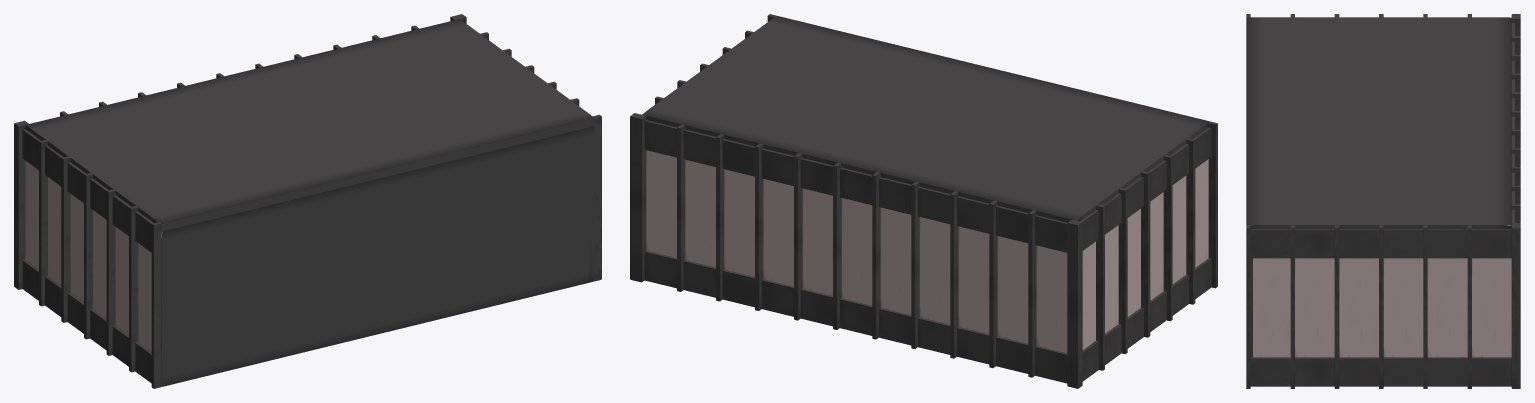
File: AptBuilding02_BaseFB.fbx
3 renders of one model, left to right at view 1: azimuth 30°, elevation 25°; view 2: azimuth 150°, elevation 25°; view 3: azimuth 270°, elevation 25°, orthographic.
Parts seen in each view (by area): view 1: cuboid_55, cuboid_54, cuboid_56, cuboid_28, cuboid_27, cuboid_23, cuboid_25, cuboid_21, cuboid_26, cuboid_53, cuboid_48, cuboid_49 (+7 smaller); view 2: cuboid_54, cuboid_57, cuboid, cuboid_56, cuboid_28, cuboid_37, cuboid_38, cuboid_39, cuboid_40, cuboid_41, cuboid_31, cuboid_32 (+31 smaller); view 3: cuboid_54, cuboid_3, cuboid_58, cuboid_43, cuboid_44, cuboid_42, cuboid_45, cuboid_46, cuboid_47, cuboid_16, cuboid_20, cuboid_2 (+7 smaller).
Boxes of the visible parts, x1,y1,x2,y2 form: cuboid_55: (161, 126, 594, 386); cuboid_54: (25, 19, 594, 231); cuboid_56: (22, 129, 160, 256); cuboid_28: (22, 260, 160, 387); cuboid_27: (151, 222, 161, 388); cuboid_23: (61, 156, 70, 322); cuboid_25: (106, 189, 115, 355); cuboid_21: (16, 123, 25, 289); cuboid_26: (129, 205, 138, 372); cuboid_53: (138, 232, 162, 351); cuboid_48: (25, 160, 38, 269); cuboid_49: (48, 177, 61, 285); cuboid_54: (642, 16, 1209, 222); cuboid_57: (644, 120, 1067, 252); cuboid: (644, 250, 1067, 383); cuboid_56: (1080, 127, 1211, 250); cuboid_28: (1082, 258, 1211, 381); cuboid_37: (1036, 245, 1067, 353); cuboid_38: (997, 236, 1028, 343); cuboid_39: (958, 226, 989, 333); cuboid_40: (880, 207, 911, 314); cuboid_41: (919, 217, 950, 324); cuboid_31: (841, 198, 872, 305); cuboid_32: (802, 188, 832, 295); cuboid_54: (1246, 17, 1511, 229); cuboid_3: (1250, 357, 1511, 386); cuboid_58: (1250, 229, 1511, 258); cuboid_43: (1427, 258, 1467, 357); cuboid_44: (1383, 258, 1423, 357); cuboid_42: (1472, 258, 1511, 357); cuboid_45: (1339, 258, 1378, 357); cuboid_46: (1295, 258, 1334, 357); cuboid_47: (1253, 258, 1290, 357); cuboid_16: (1334, 225, 1339, 388); cuboid_20: (1511, 225, 1516, 388); cuboid_2: (1246, 225, 1250, 388).
Bounding box in the file's own units: 287 × 100 × 155.
1 material, 1 textured.
